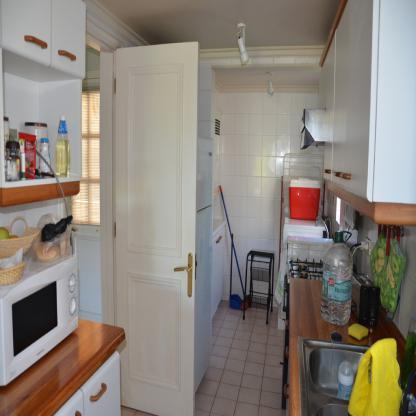door: (113, 48, 195, 413)
hinged: (114, 79, 116, 95), (114, 223, 116, 237)
lever: (170, 265, 191, 275)
